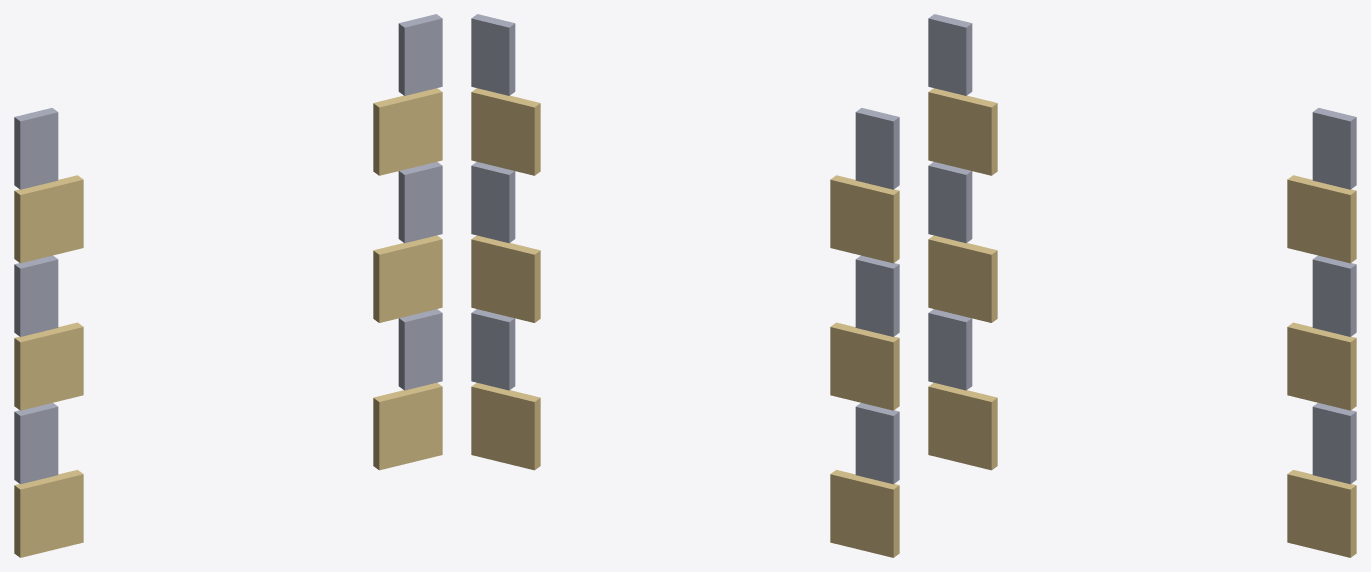
Rendered from stone-accents.glb.
3 renders of one model, left to right at view 1: azimuth 30°, elevation 25°; view 2: azimuth 150°, elevation 25°; view 3: azimuth 330°, elevation 25°, orthographic.
Parts seen in each view (by area): view 1: stone-accents; view 2: stone-accents; view 3: stone-accents.
Boxes of the visible parts, x1,y1,x2,y2 form: stone-accents: [14, 14, 442, 557]; stone-accents: [471, 14, 899, 557]; stone-accents: [928, 14, 1356, 557].
Bounding box in the file's own units: 1 × 0.988 × 0.025.
Materials: 1 (1 with a texture image).
